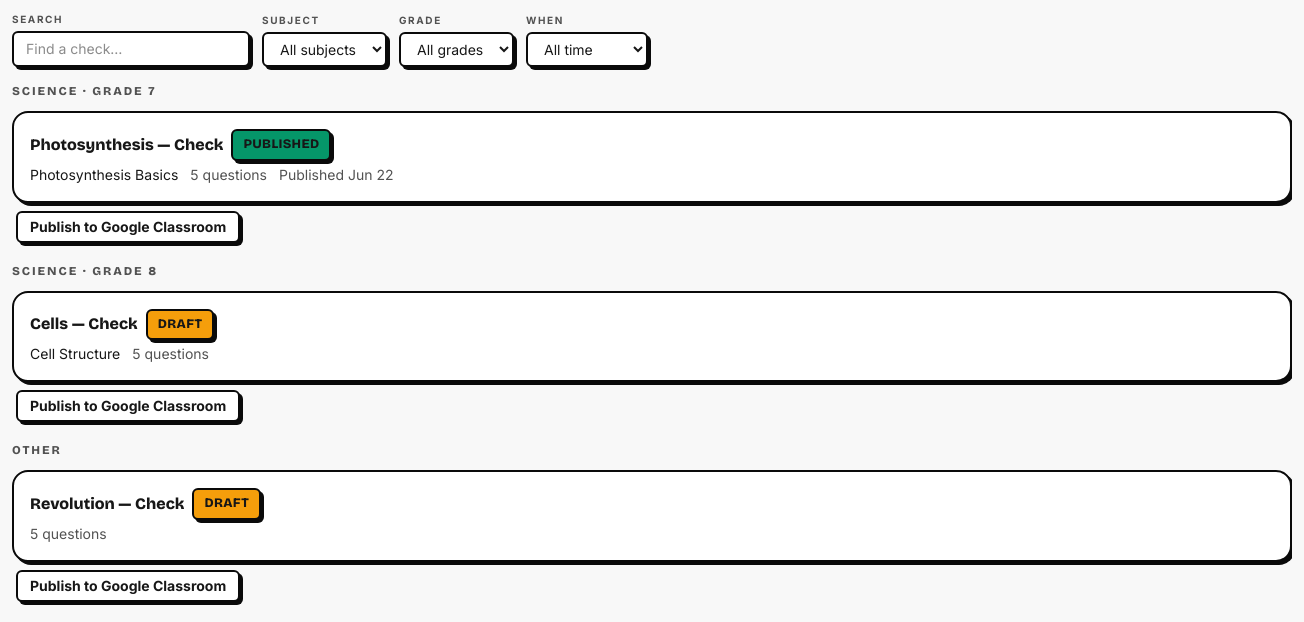
QuizLibrary › after clicking Publish and the fetch resolves {ok:true} the row shows "✓ In Google Classroom"
Click the "Publish to Classroom" button for q2 (Cells — Check row)
Click the button "Publish to Google Classroom" below "SCIENCE · GRADE 7".
click(128, 226)  # box [16,210,240,242]
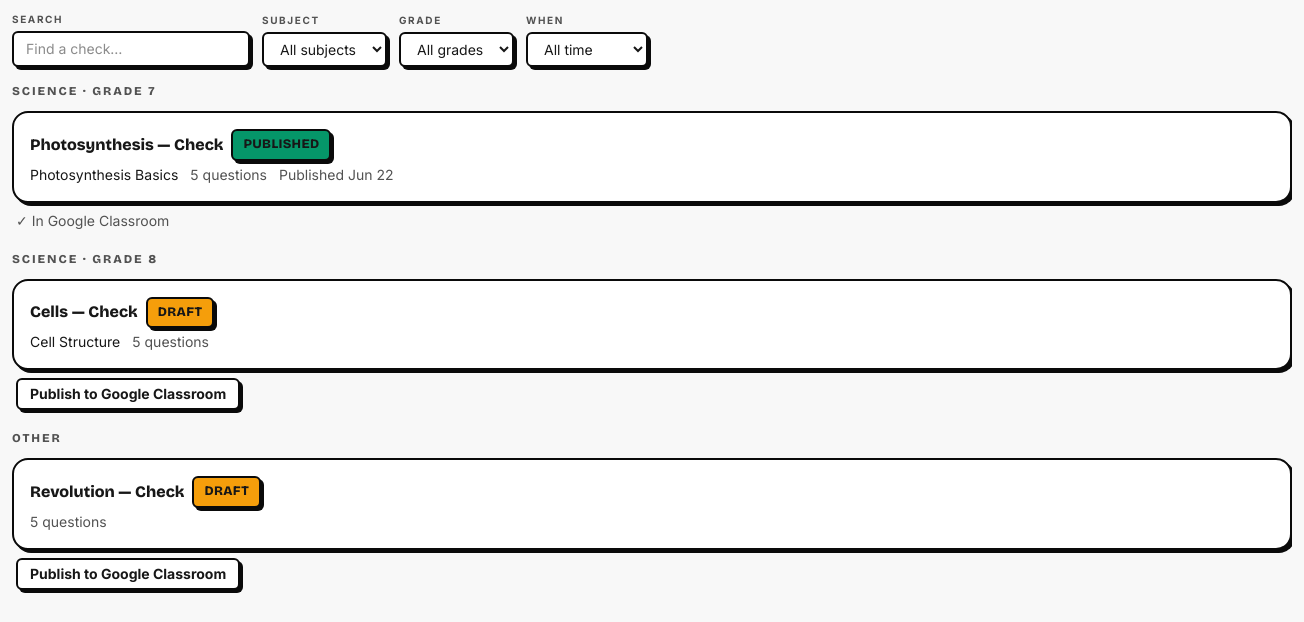
Result: the text "✓ In Google Classroom" is shown at [16,210,169,230]
